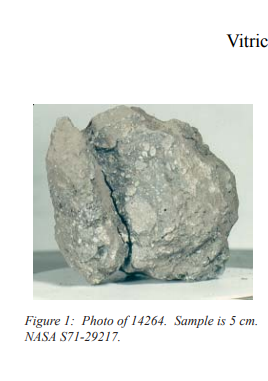Breccia: (32, 103, 245, 293)
